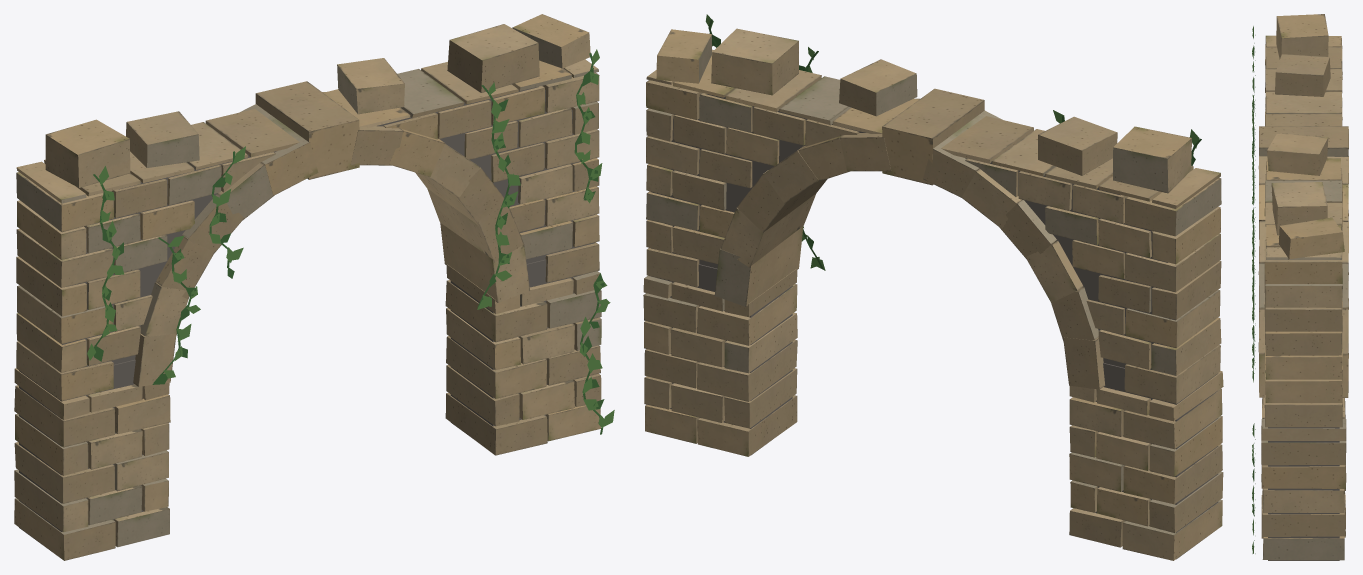
The model's file is Gate_Arch.glb.
3 renders of one model, left to right at view 1: azimuth 30°, elevation 25°; view 2: azimuth 150°, elevation 25°; view 3: azimuth 270°, elevation 25°, orthographic. The views are drawn at different scales.
Visible parts, largest first — view 1: Gate_Arch; view 2: Gate_Arch; view 3: Gate_Arch.
Boxes of the visible parts, left/top/right/bottom form: Gate_Arch: left=14, top=14, right=614, bottom=560; Gate_Arch: left=643, top=14, right=1223, bottom=560; Gate_Arch: left=1252, top=14, right=1348, bottom=560.
Bounding box in the file's own units: 5.06 × 3.51 × 0.9218.
Materials: 4 (1 with a texture image).
